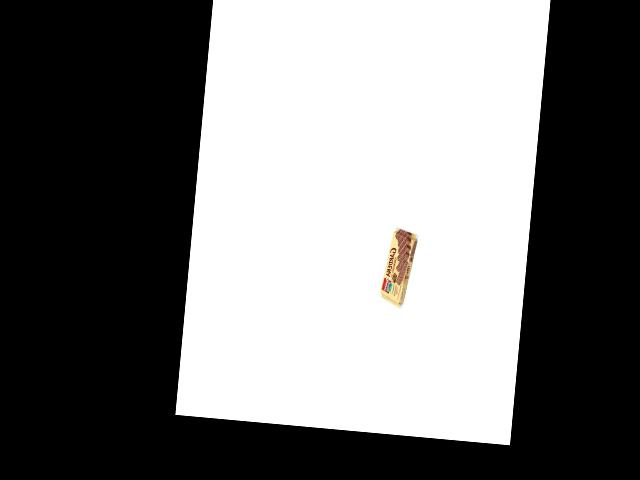chocolate: (377, 222, 415, 311)
